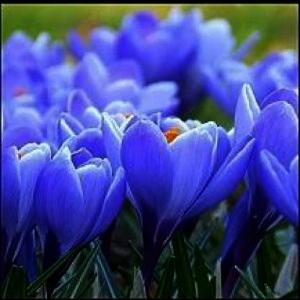Saffron: (104, 114, 250, 268), (239, 83, 300, 256), (43, 150, 119, 268), (3, 138, 63, 263)
